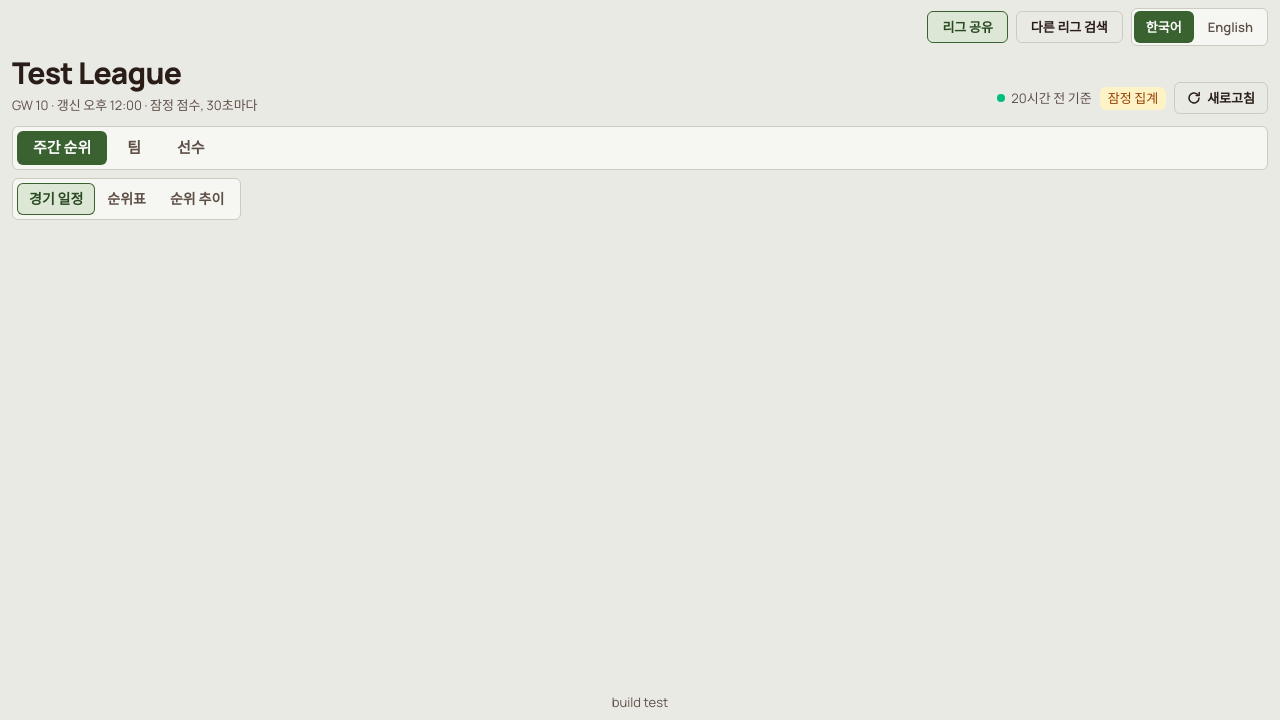
Test: LeagueDashboard rival choice › starts empty even if an earlier version saved a choice for this league
Click the tab "순위표". click: (127, 199)
box: 95,183 -> 158,215
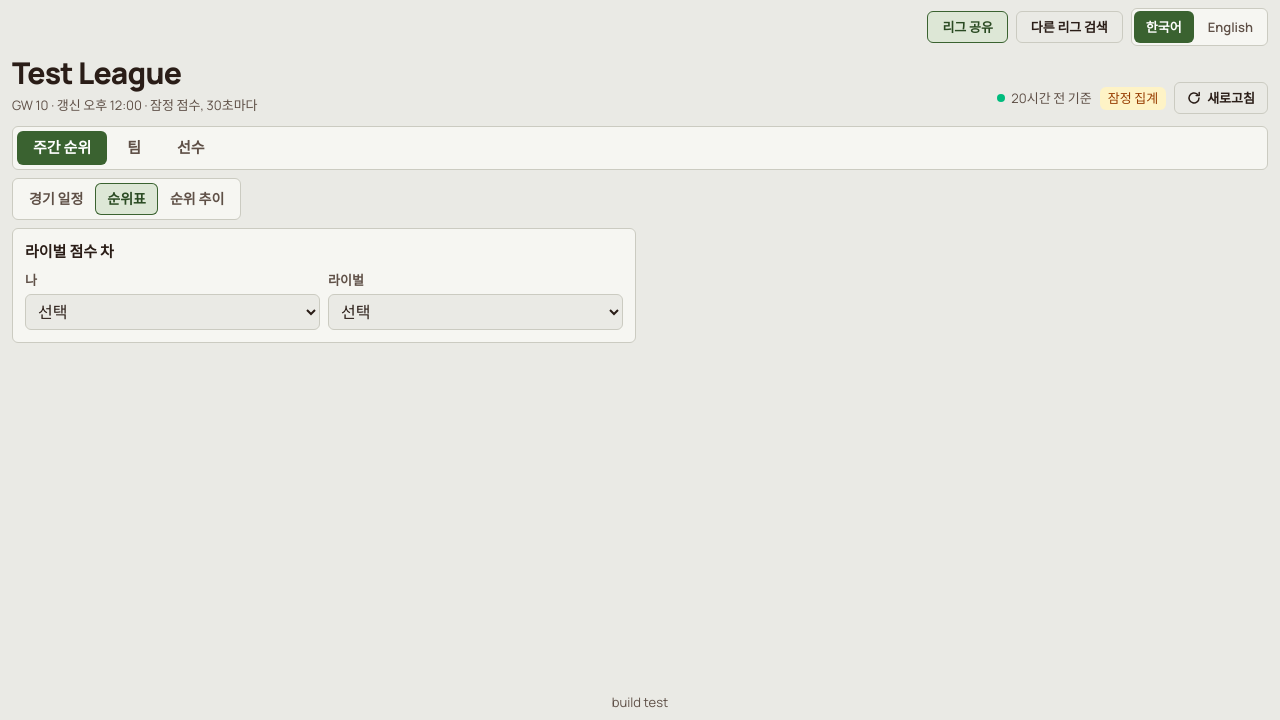
Now the heading "라이벌 점수 차" is shown, box 25,241 -> 114,262
Now the dropdown labelled "나" shows "선택", box 25,294 -> 320,330
Now the dropdown labelled "라이벌" shows "선택", box 328,294 -> 623,330
